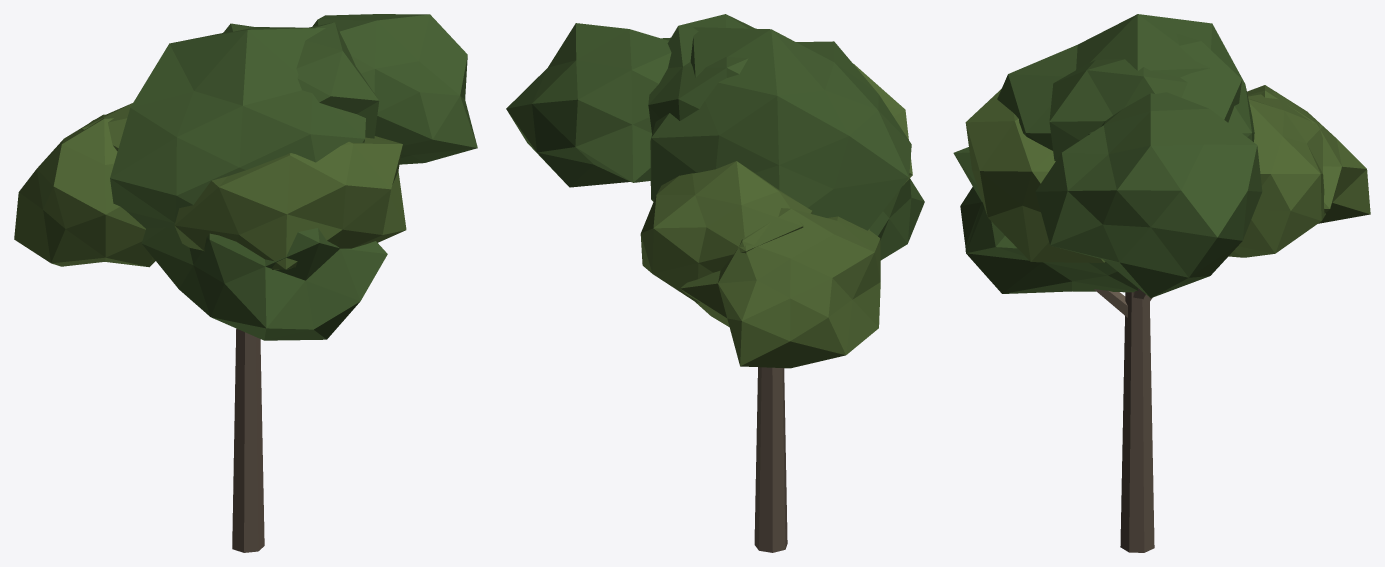
File: broadleaf_oak.glb
3 renders of one model, left to right at view 1: azimuth 30°, elevation 25°; view 2: azimuth 150°, elevation 25°; view 3: azimuth 270°, elevation 25°, orthographic. The views are drawn at different scales.
Parts seen in each view (by area): view 1: broadleaf_oak; view 2: broadleaf_oak; view 3: broadleaf_oak.
Boxes of the visible parts, left/top/right/bottom form: broadleaf_oak: left=14, top=14, right=477, bottom=552; broadleaf_oak: left=506, top=14, right=924, bottom=552; broadleaf_oak: left=953, top=14, right=1370, bottom=552.
Bounding box in the file's own units: 8.27 × 10.73 × 7.62.
